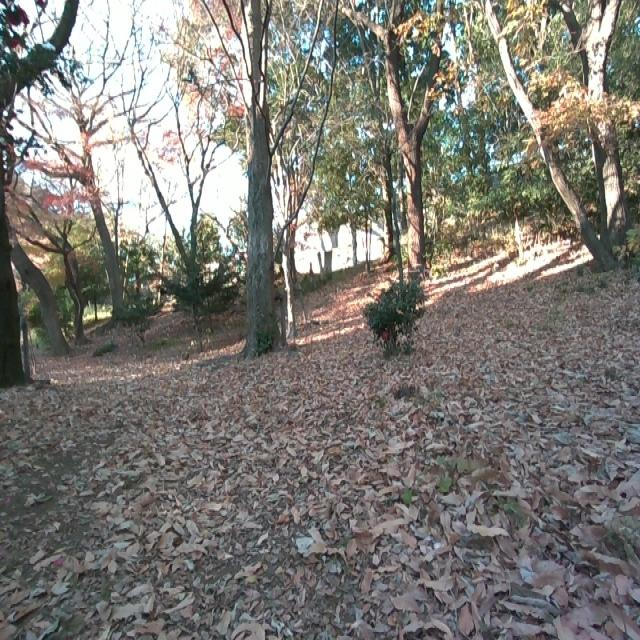bush: (366, 272, 425, 356)
tree: (192, 0, 326, 351), (473, 0, 640, 264), (32, 0, 128, 328), (342, 0, 450, 285), (0, 0, 73, 380), (131, 58, 211, 332)
